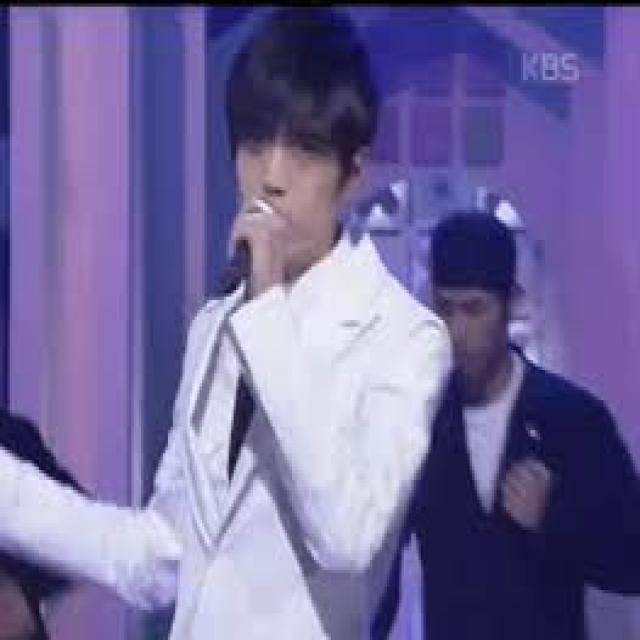earphone: (336, 142, 375, 198)
